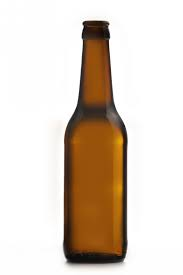botella: (62, 19, 130, 264)
